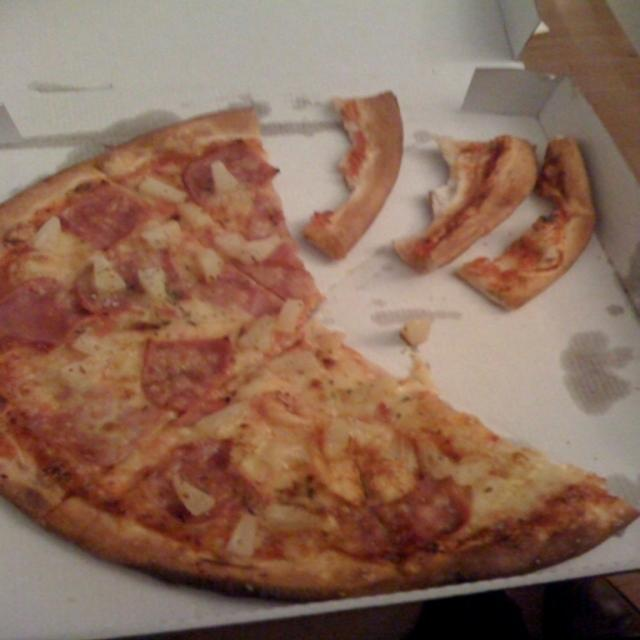Pizza: (15, 114, 613, 594)
